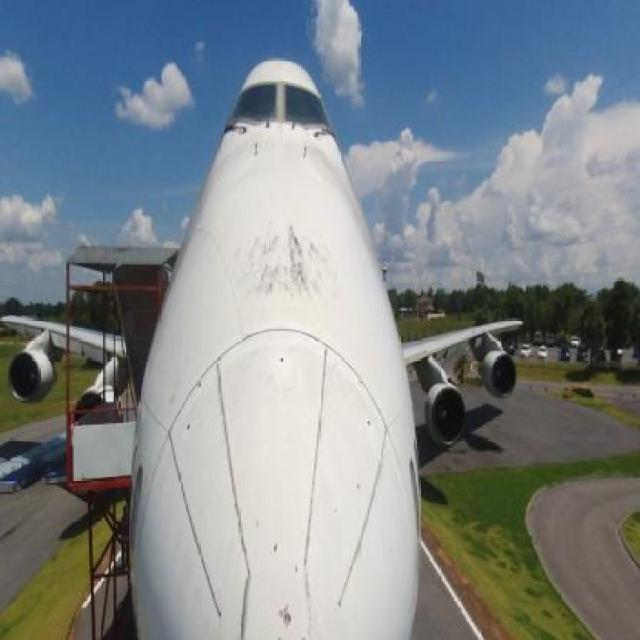Scartch: (219, 201, 372, 322), (227, 512, 336, 640)
